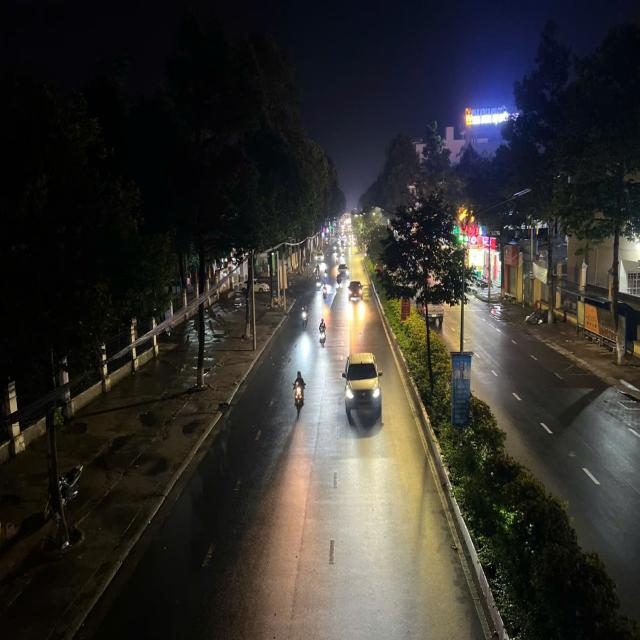car: (342, 349, 384, 424), (418, 288, 448, 328), (345, 278, 366, 304), (337, 260, 352, 280)
motobyte: (291, 370, 308, 417), (316, 314, 330, 352), (298, 300, 310, 332), (320, 280, 328, 301), (336, 274, 343, 288)
